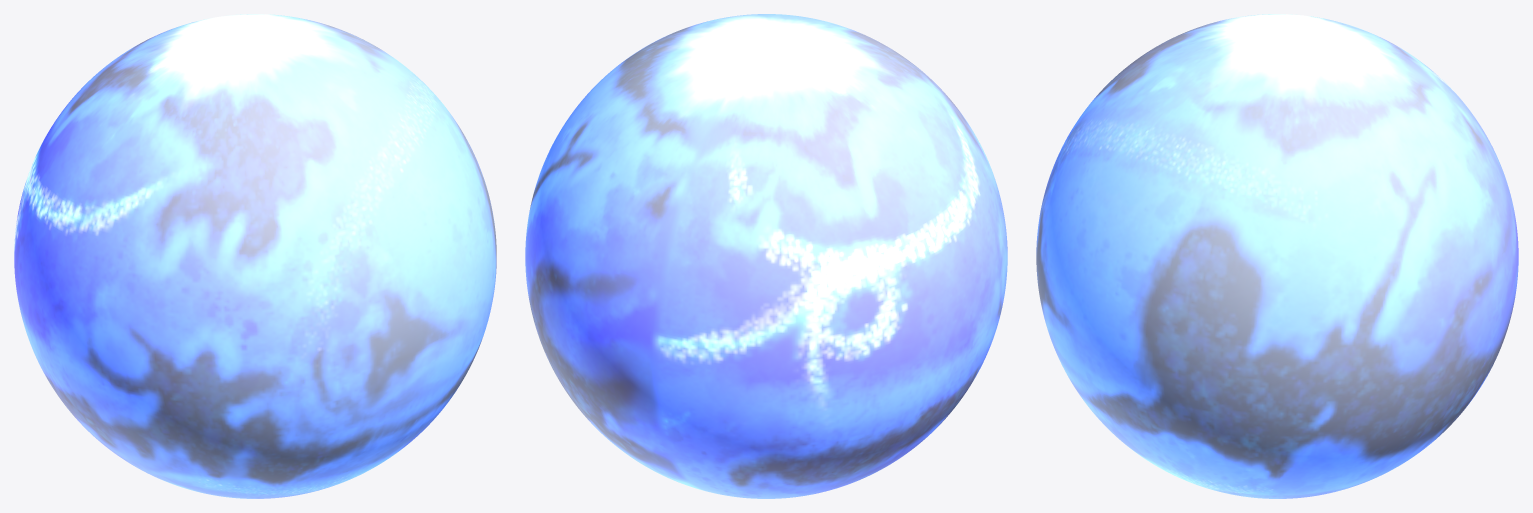
The model's file is PlanetOne.glb.
3 views of the same model, side by side, from view 1: azimuth 30°, elevation 25°; view 2: azimuth 150°, elevation 25°; view 3: azimuth 270°, elevation 25° (orthographic).
Parts seen in each view (by area): view 1: Sphere; view 2: Sphere; view 3: Sphere.
Boxes of the visible parts, left/top/right/bottom form: Sphere: left=14, top=14, right=496, bottom=498; Sphere: left=525, top=14, right=1007, bottom=498; Sphere: left=1036, top=14, right=1518, bottom=498.
Size of the model in its own units: 5.92 by 5.97 by 5.92.
